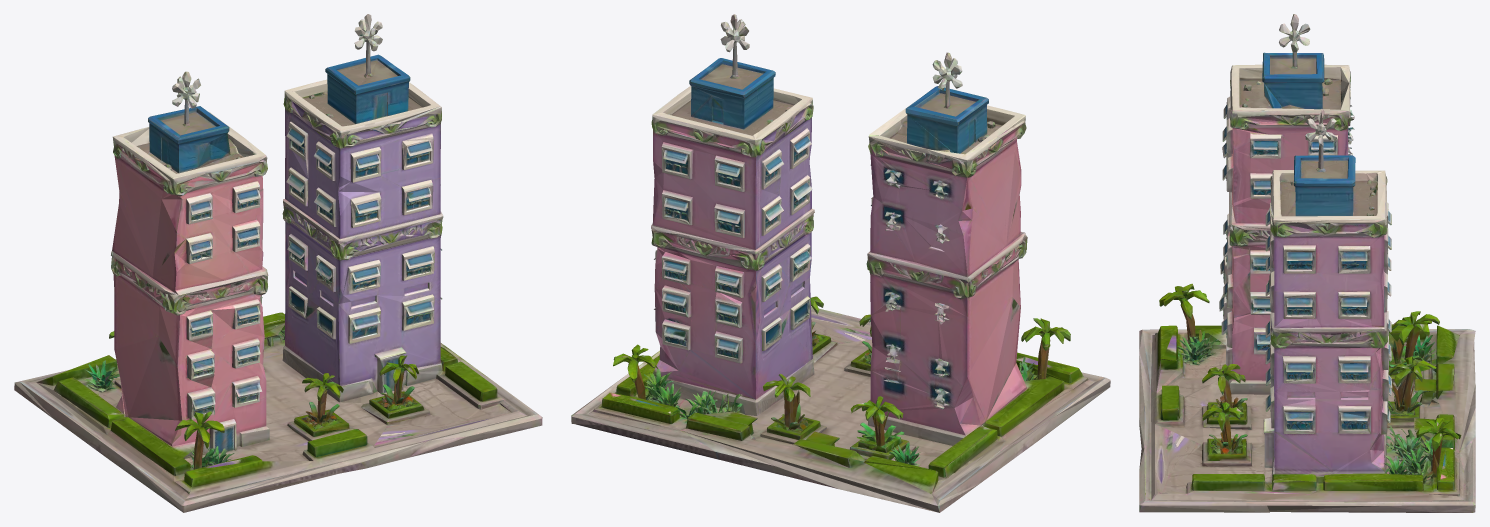
File: town_flats_trop_2x1_6.glb
3 renders of one model, left to right at view 1: azimuth 30°, elevation 25°; view 2: azimuth 150°, elevation 25°; view 3: azimuth 270°, elevation 25°, orthographic. The views are drawn at different scales.
Visible parts, largest first — view 1: normalize; view 2: normalize; view 3: normalize.
Boxes of the visible parts, x1,y1,x2,y2 form: normalize: (14,14,542,512); normalize: (571,14,1110,512); normalize: (1139,14,1475,512).
Bounding box in the file's own units: 1 × 0.9673 × 0.8096.
1 material, 1 textured.
